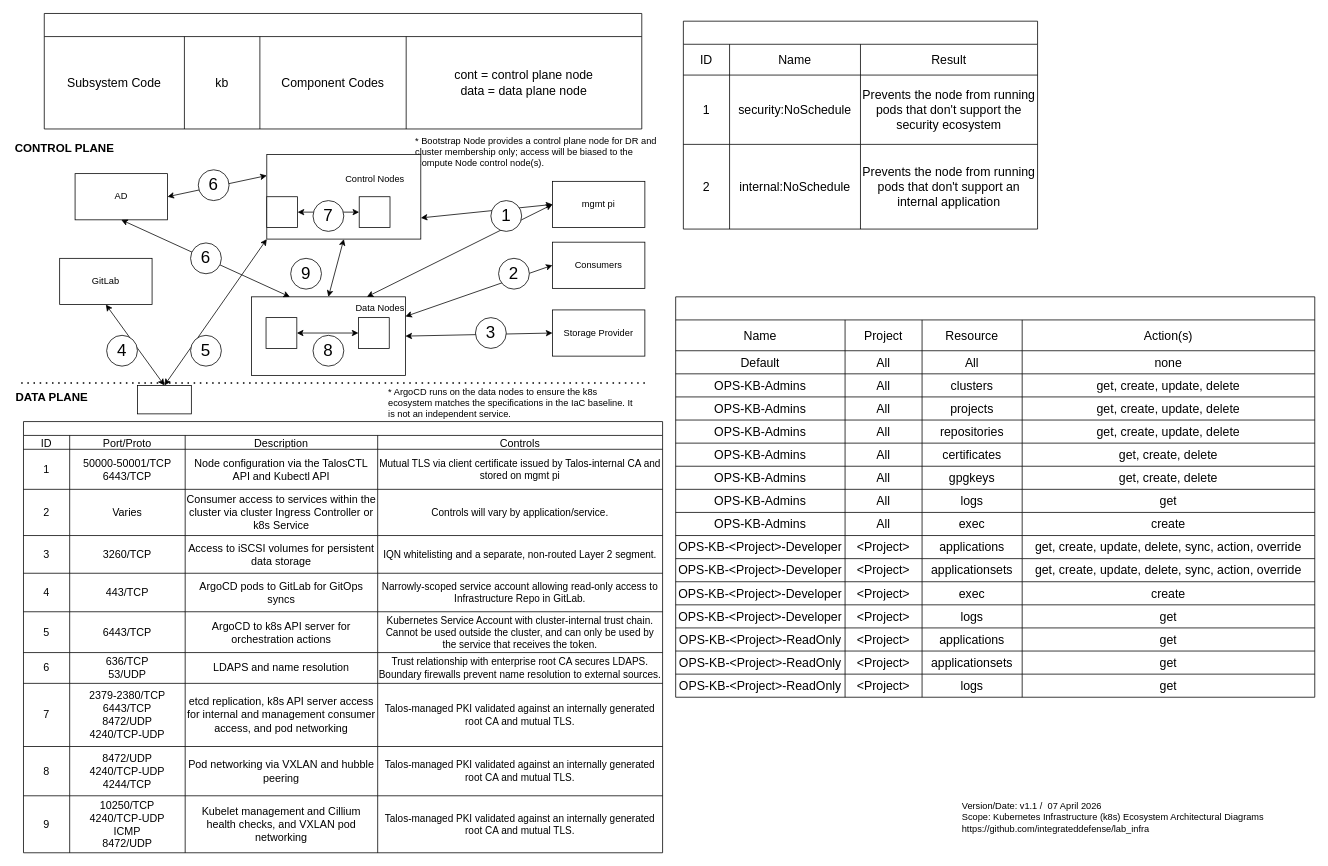
Image size: 1328x866. Some labels were removed from this diagram. Each missing label, with the box of its shape:
ArgoCD: (137, 385, 191, 414)
Data Flows: (23, 421, 663, 853)
Kubernetes Ecosystem: (44, 13, 642, 129)
RBAC Model: (675, 296, 1315, 697)
Taints: (683, 20, 1038, 229)
